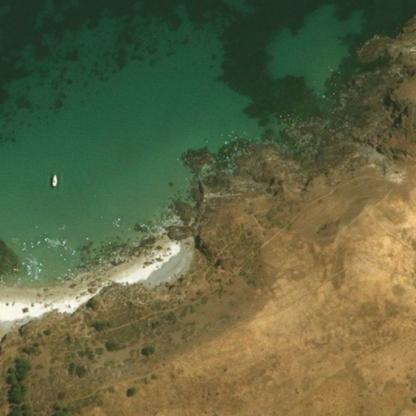ship: (50, 6, 56, 19)
